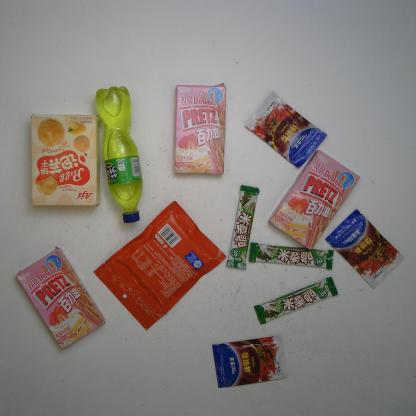Chocolate: (251, 274, 341, 330), (223, 181, 262, 273), (243, 238, 337, 273)
Dessert: (14, 239, 108, 356), (264, 145, 364, 253), (24, 110, 106, 210), (168, 78, 229, 178)
Dried Fruit: (89, 196, 230, 337)
Drink: (90, 83, 147, 227)
Seasoner: (322, 206, 407, 291), (240, 88, 329, 169), (208, 329, 292, 391)
